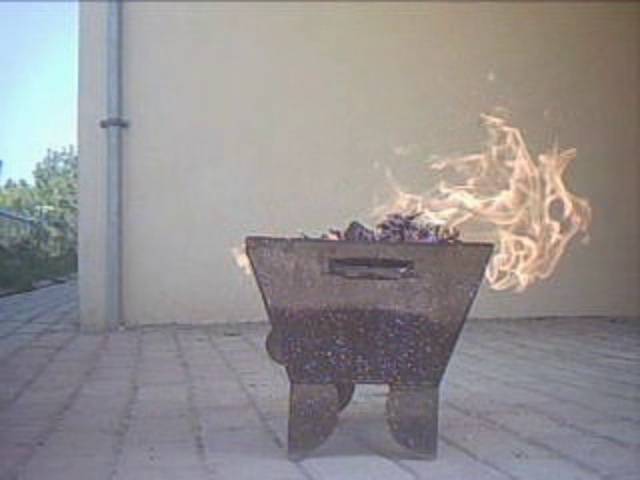fire: (450, 124, 585, 290)
